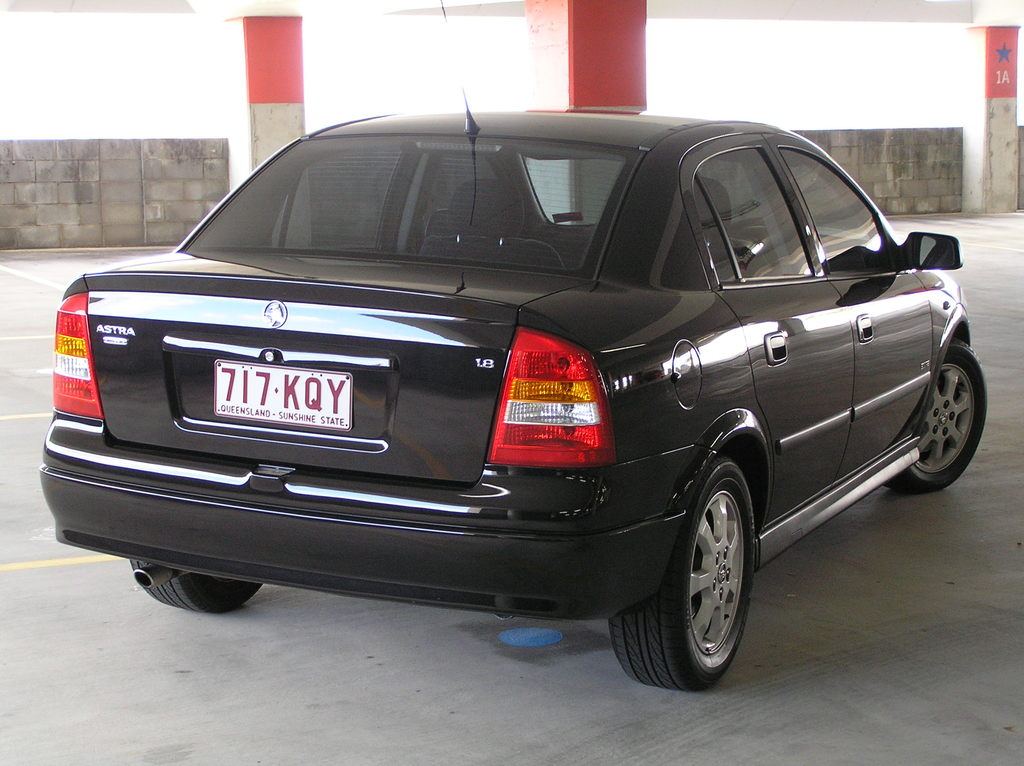license plate: (213, 356, 347, 427)
